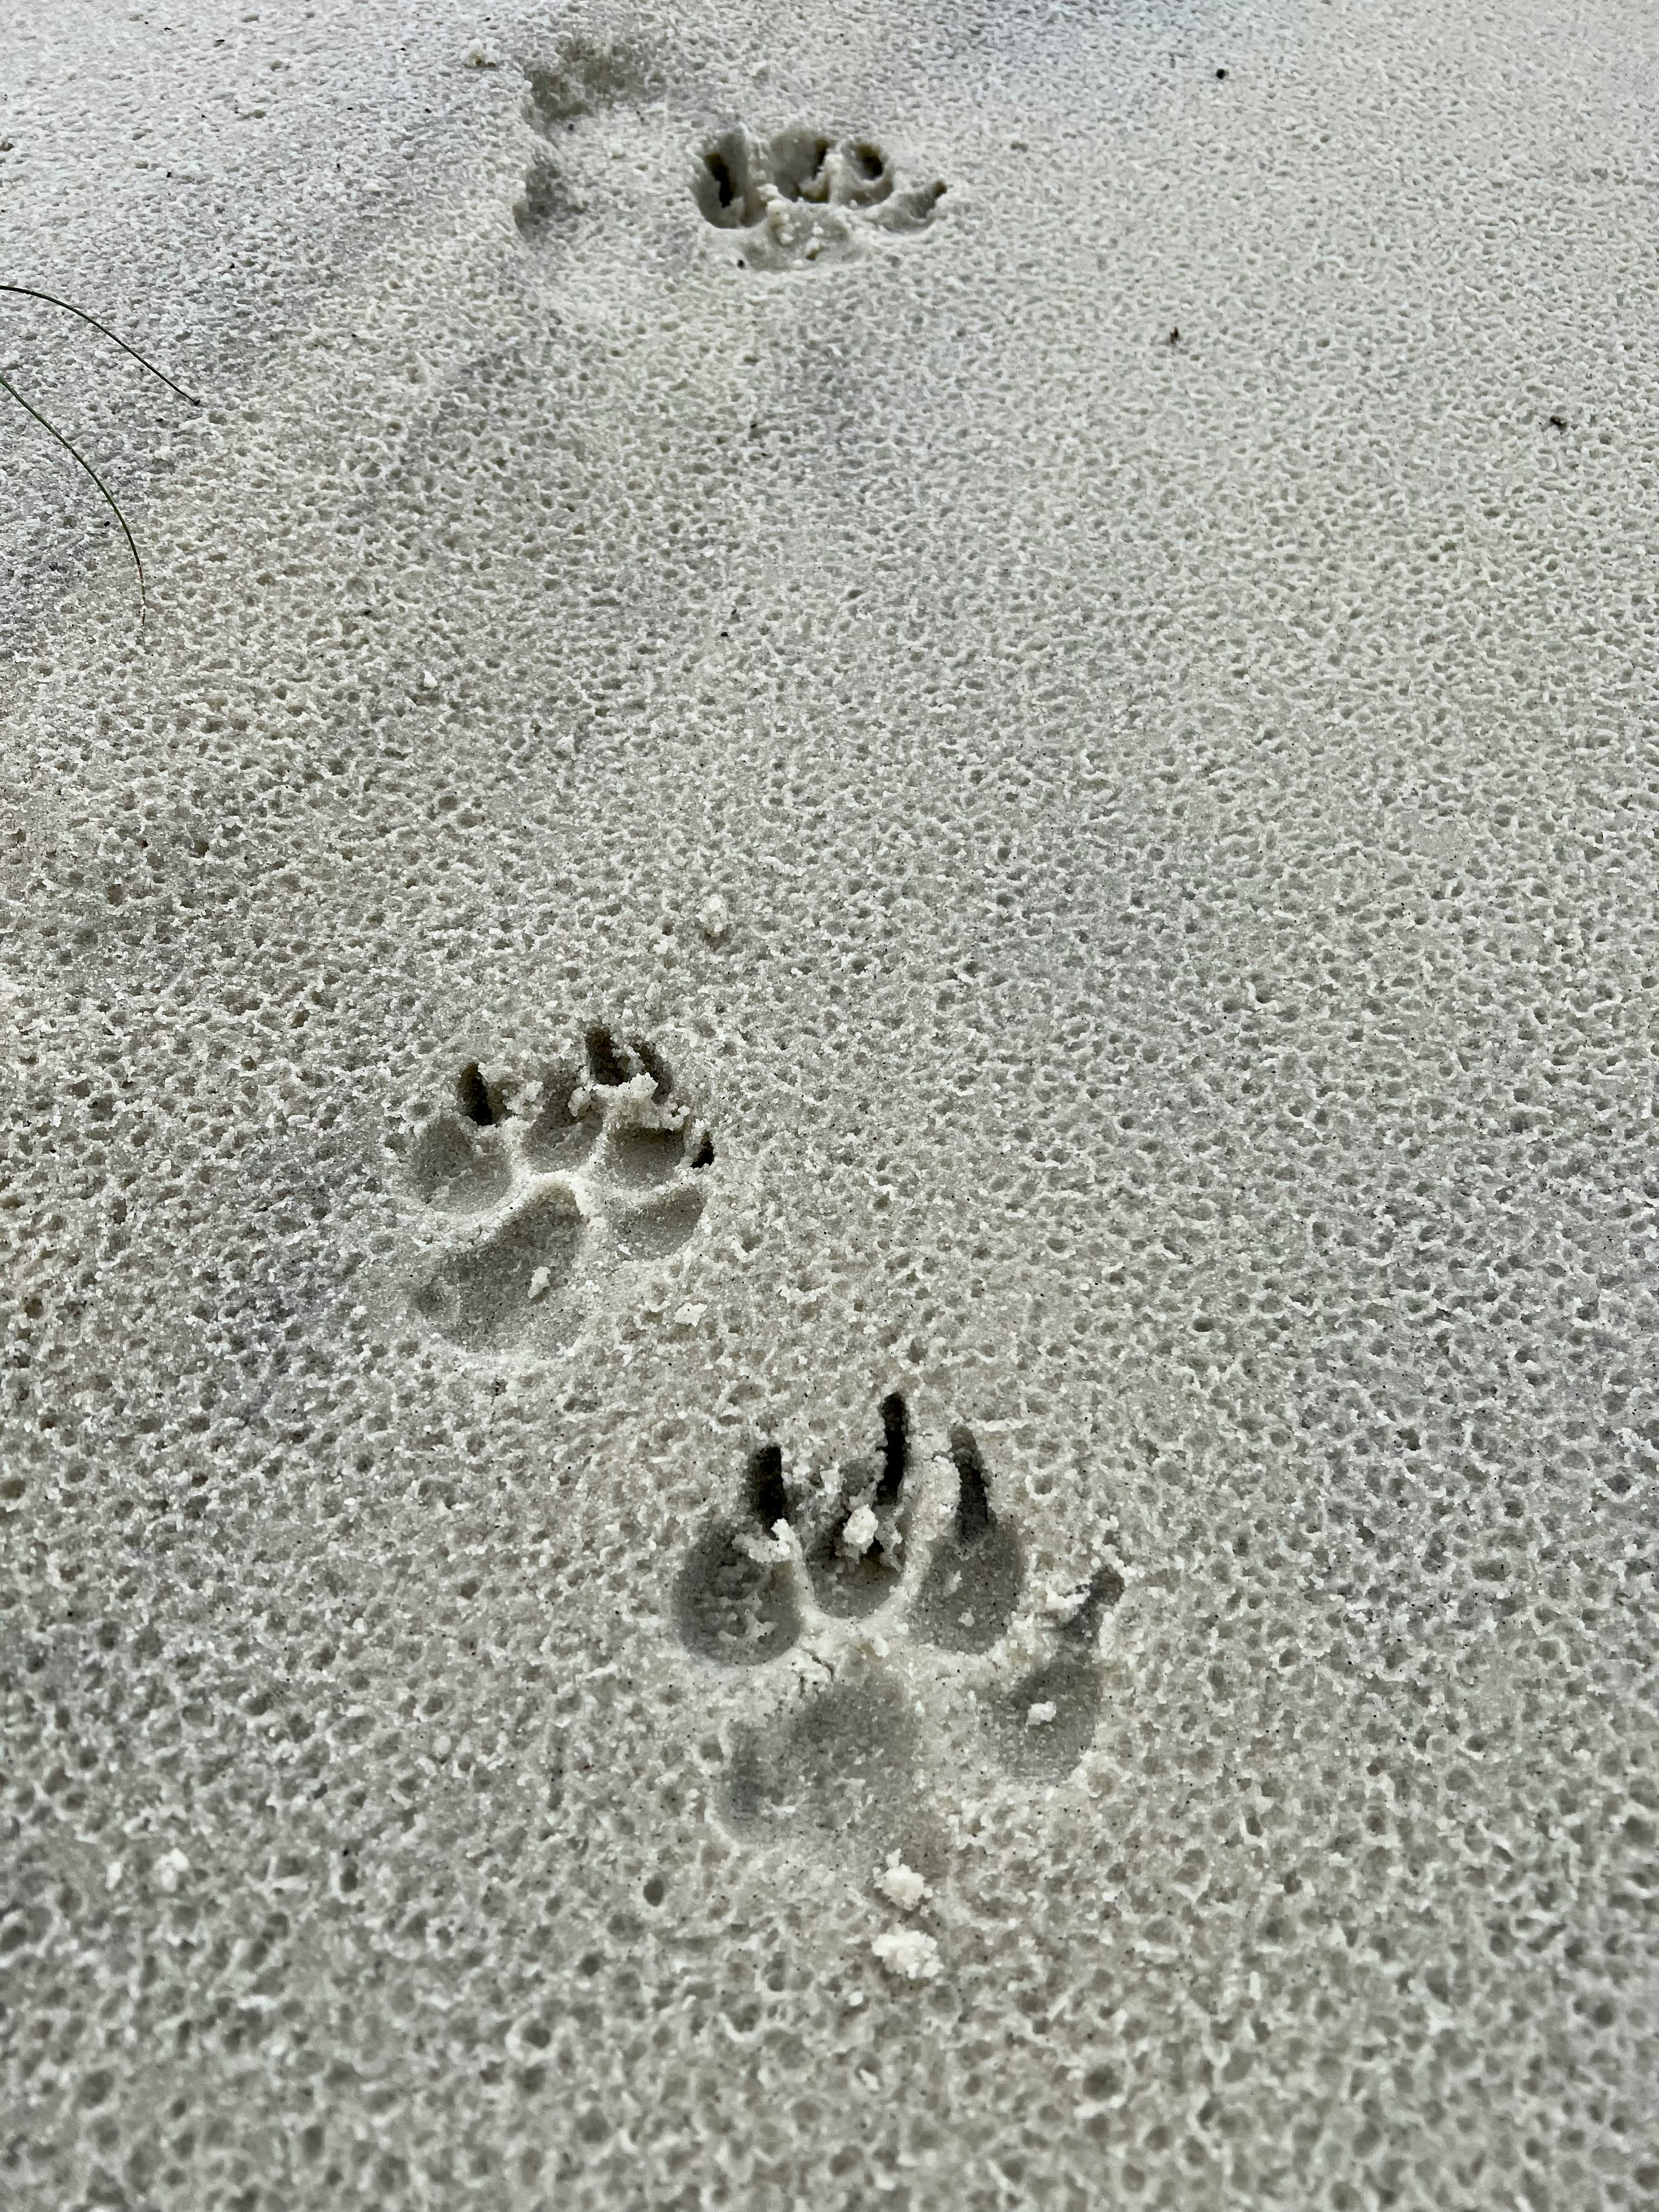chien: (674, 1379, 1127, 1912), (413, 1031, 725, 1357)
